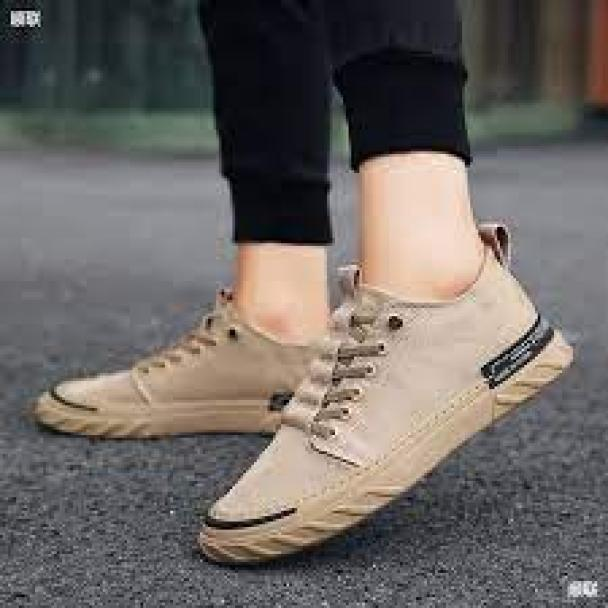Sepatu: (202, 242, 577, 562), (31, 296, 279, 438)
